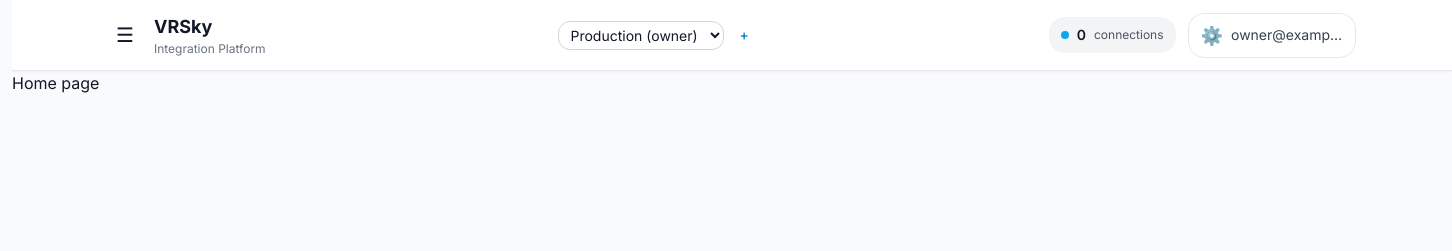
Test case: Header › falls back to the email when the user has no name
This screenshot has width=1452, height=251.
Click the button with aria-label "Open user menu": (1272, 35) [1188,12,1356,58]
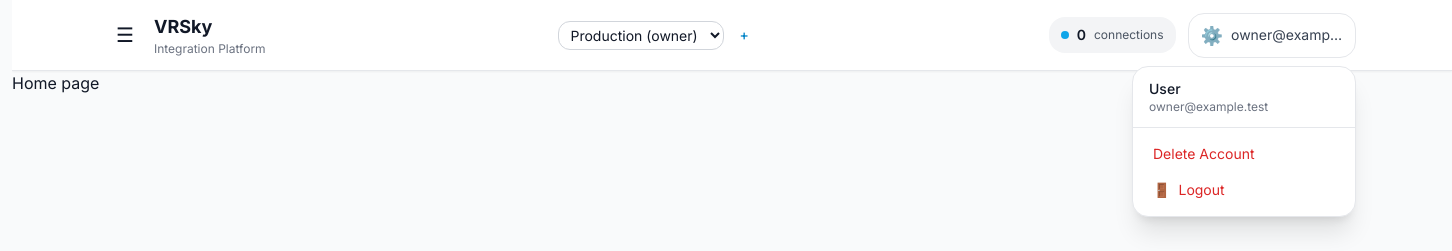
Check: the text "User" is shown, box [1149,80,1180,96]
